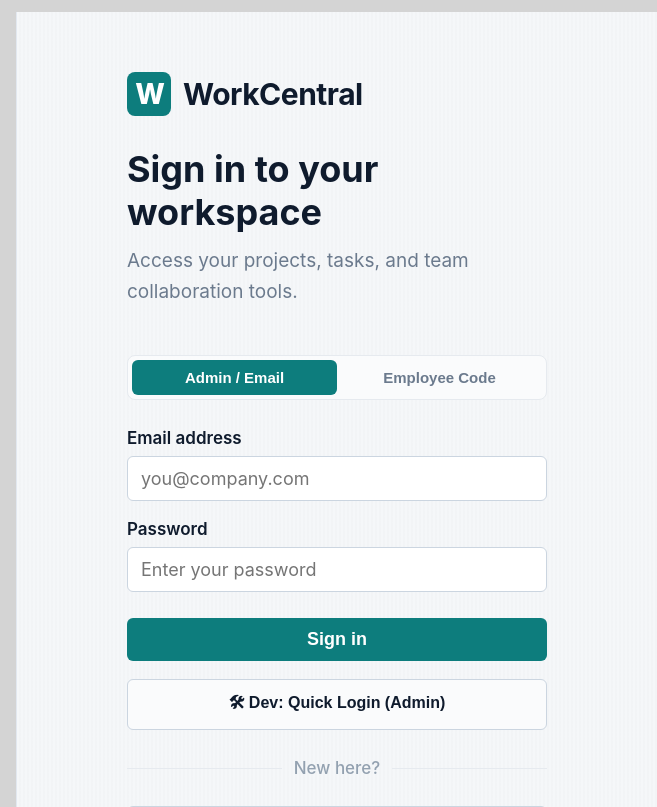
Test: Login › shows error message on failed login
Type "bad@test.com" into the field with placeholder "you@company.com" at (337,479), box [127, 456, 547, 501]
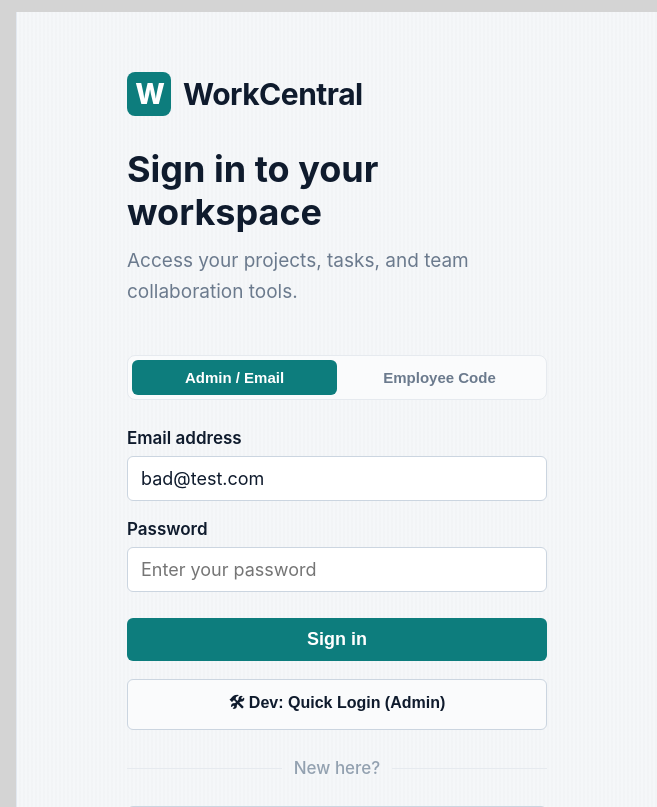
Type "wrongpass" into the password field with placeholder "Enter your password" at (337,570), box [127, 547, 547, 592]
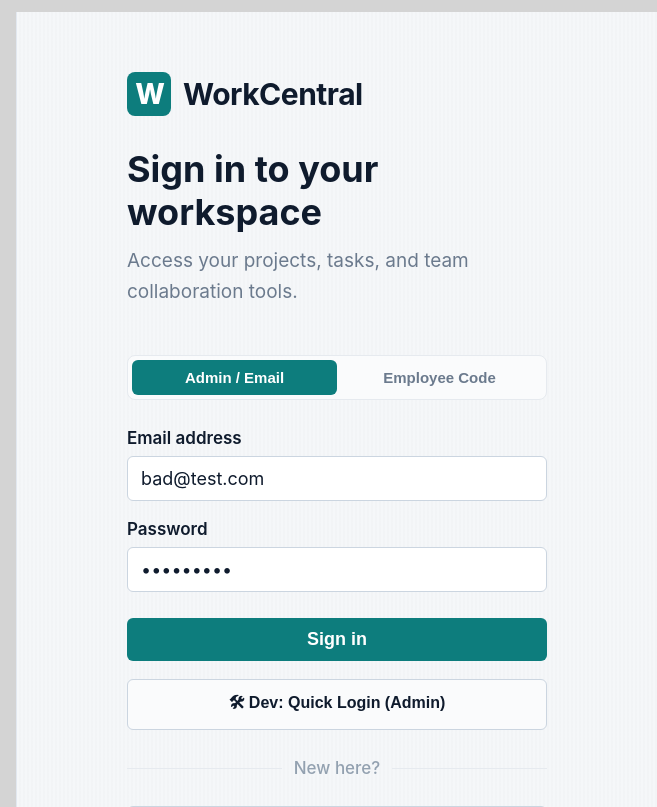
Click the button "Sign in" at (337,640), box [127, 618, 547, 661]
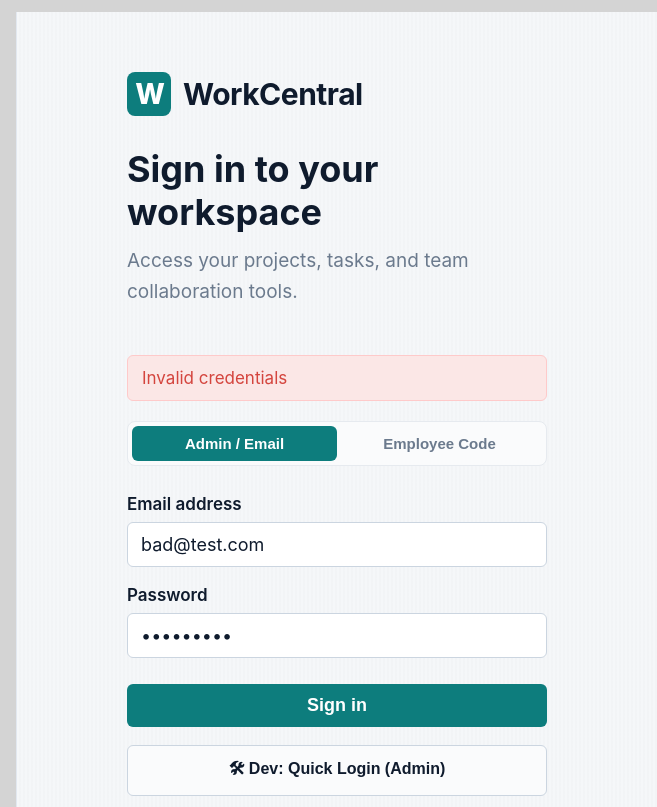
Check: the text "Invalid credentials" is shown, box [127, 355, 547, 401]
